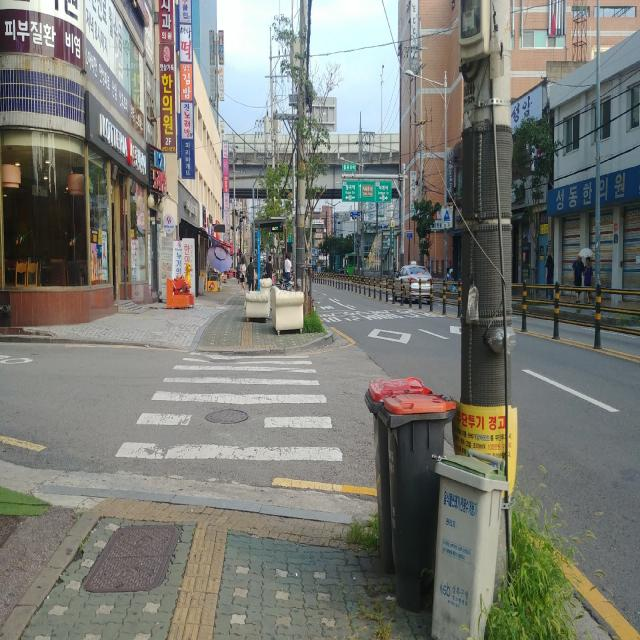횡단보도: (115, 352, 343, 462)
